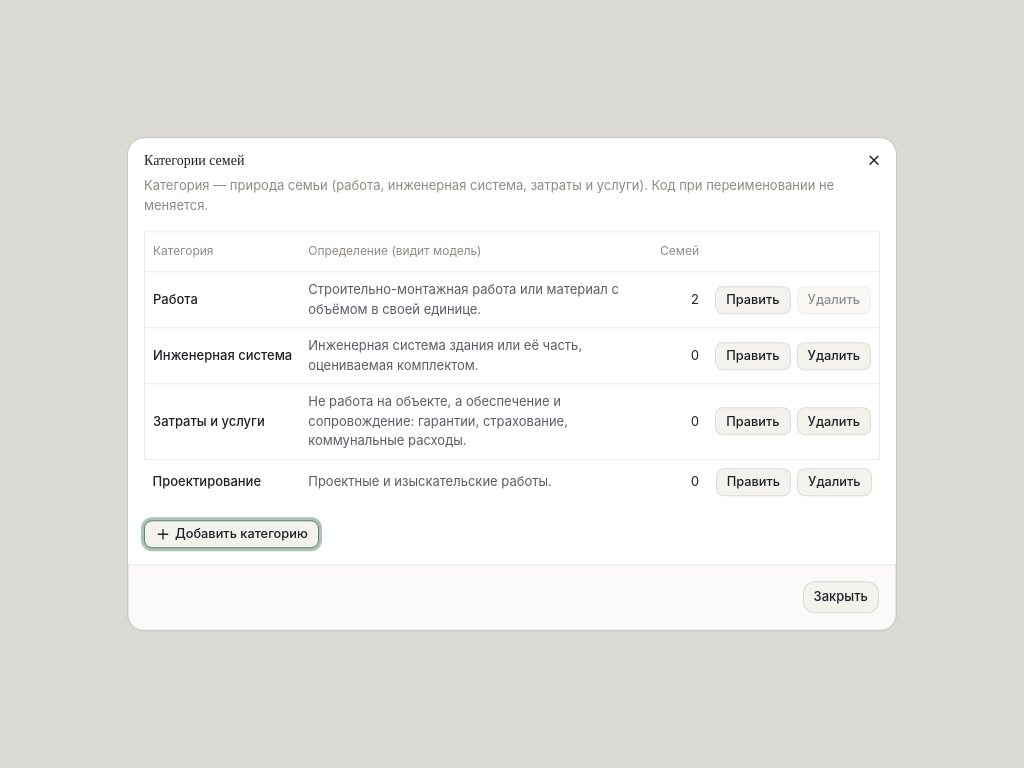
Test case: FamilyCategoriesDialog › «Править» другой строки переключает форму на неё, а не оставляет прежние значения
This screenshot has width=1024, height=768.
Check: the text "Инженерная система" is shown, box [144,328,300,384]
Click the 1st button "Править": (753, 300) [715,286,791,314]
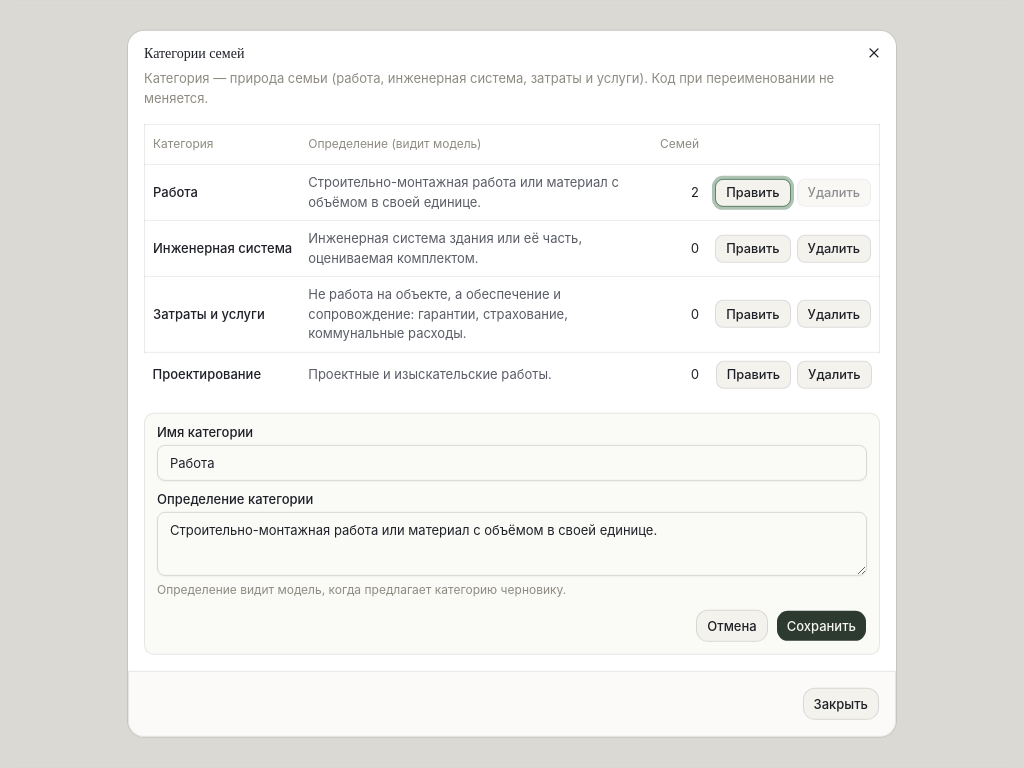
Check: the field labelled "Имя категории" holds "Работа", box [157,444,867,480]
Click the button "Править" in the row of "Проектирование": (753, 374) [716,360,791,388]
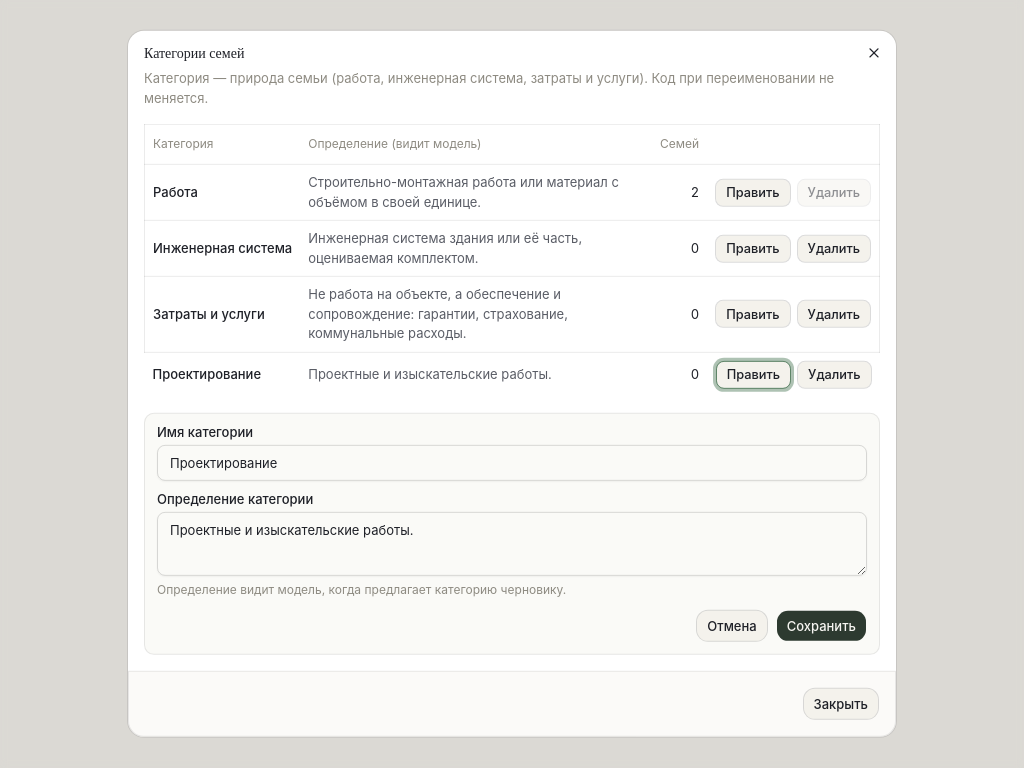
Check: the field labelled "Имя категории" holds "Проектирование", box [157,444,867,480]
Check: the text box labelled "Определение категории" holds "Проектные и изыскательские работы.", box [157,511,867,575]
